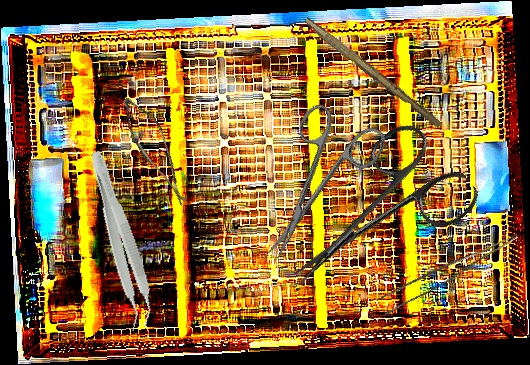Iris Scissors: (262, 112, 485, 325), (233, 93, 391, 278)
Micro Scissor: (105, 92, 210, 208)
Scalpel Handle: (300, 16, 445, 130)
Tissue Forceps: (77, 148, 161, 332), (375, 218, 519, 320)
